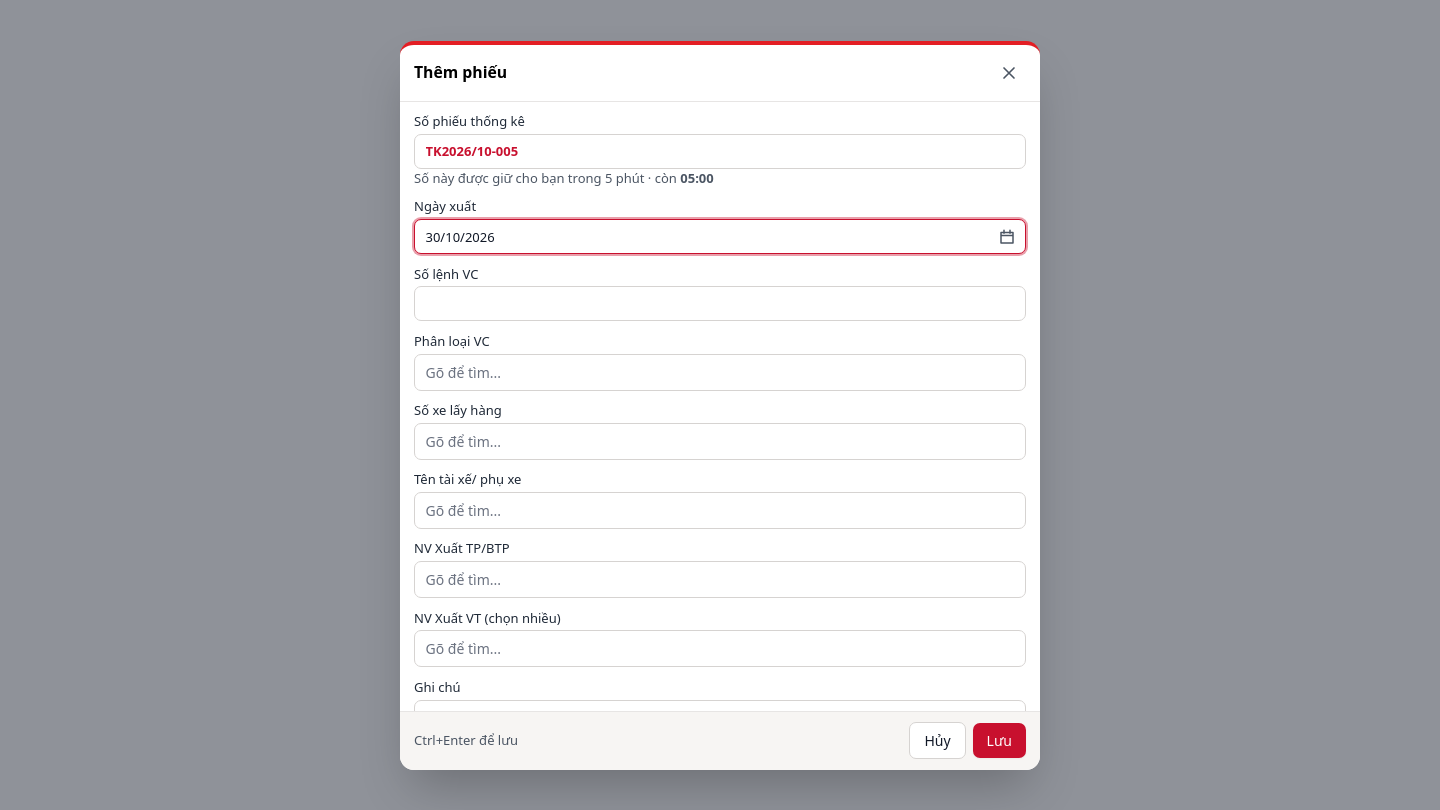
Test: PlanFormModal - tạo phiếu › để trống ngày xuất → không gọi RPC
The image size is (1440, 810).
Clear the field with test id "export-date" at [720, 237], box [414,219,1026,254]
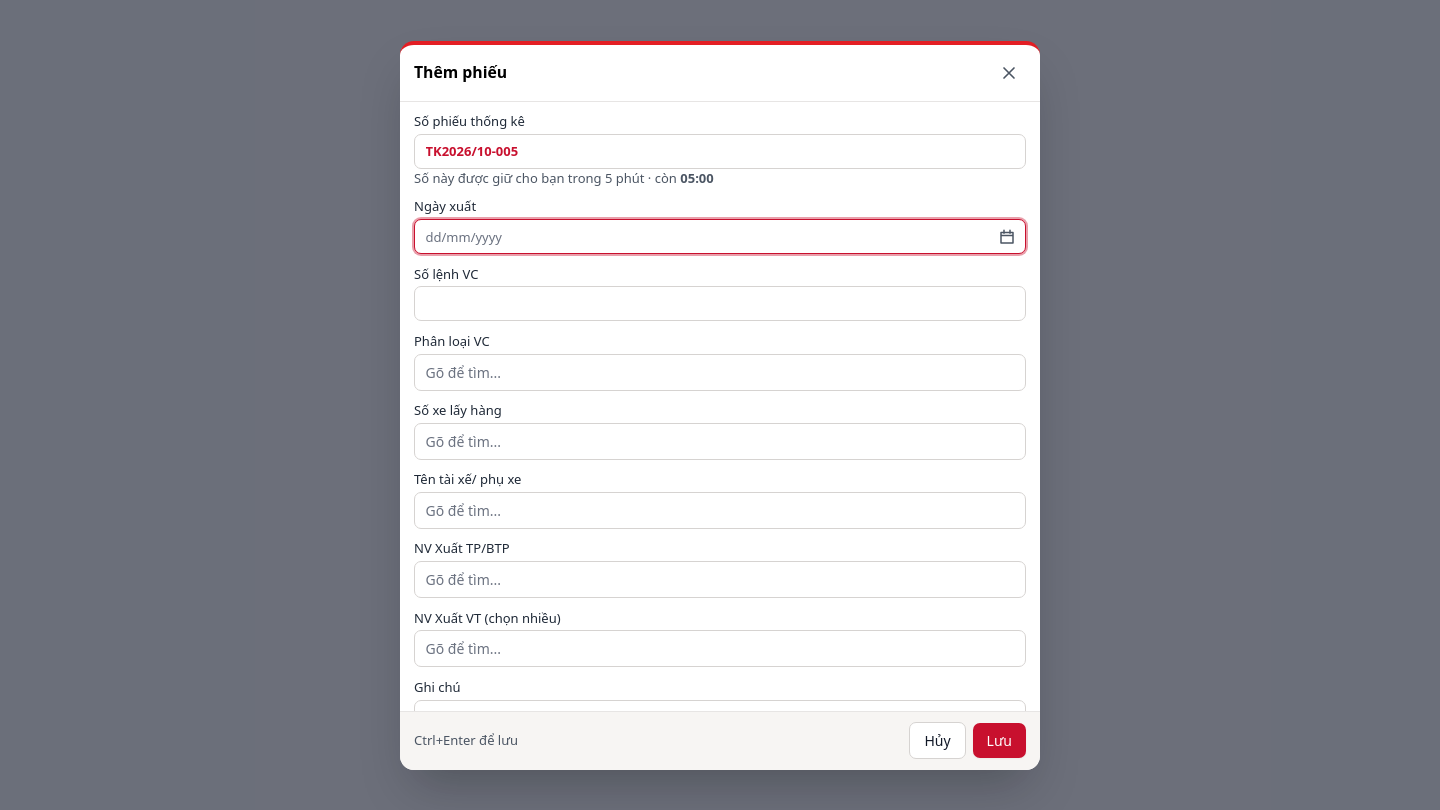
Submit the form with test id "plan-form", box [400,44,1040,770]
(page scrolled)
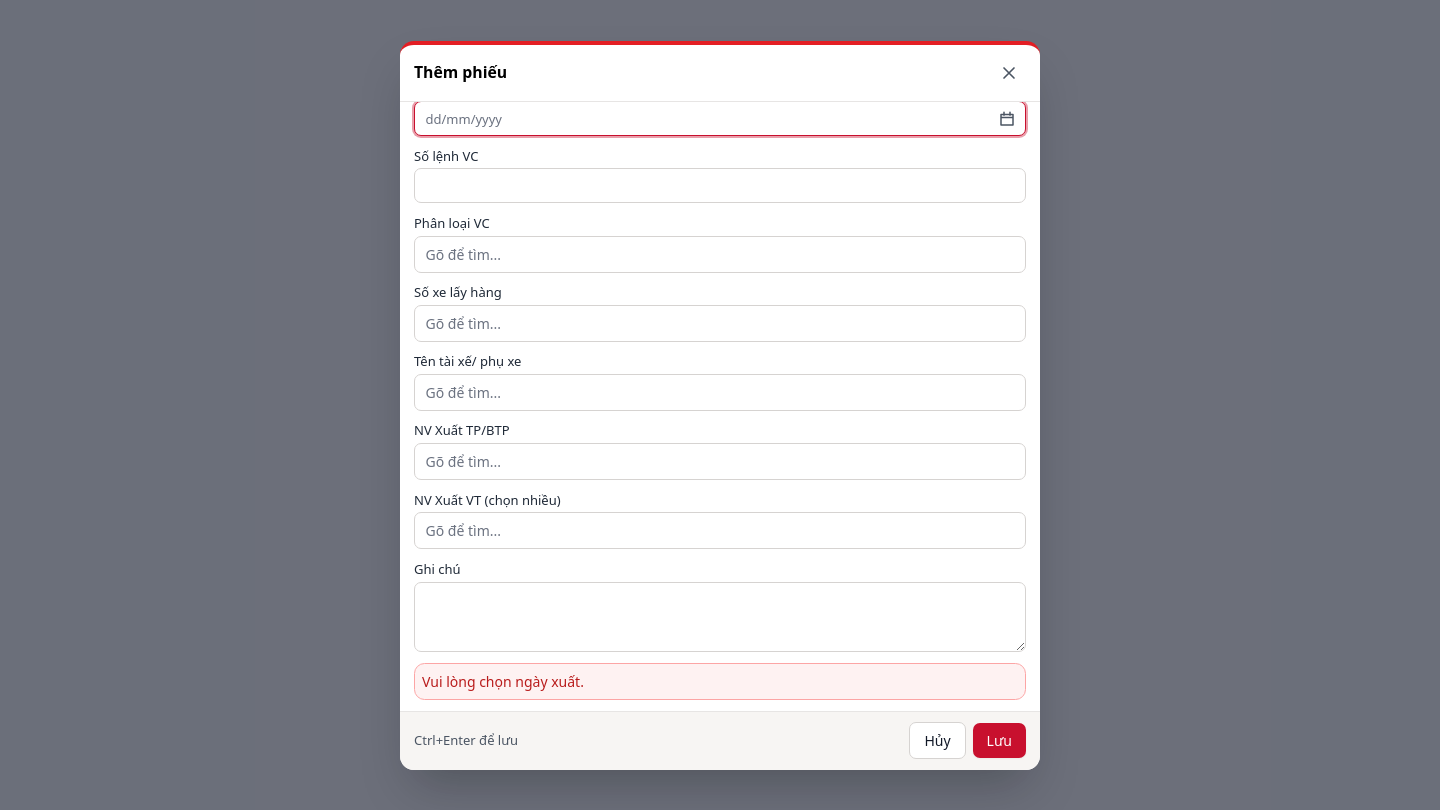
Expected: the message with test id "plan-error" shows "chọn ngày xuất", [422,672,584,691]
